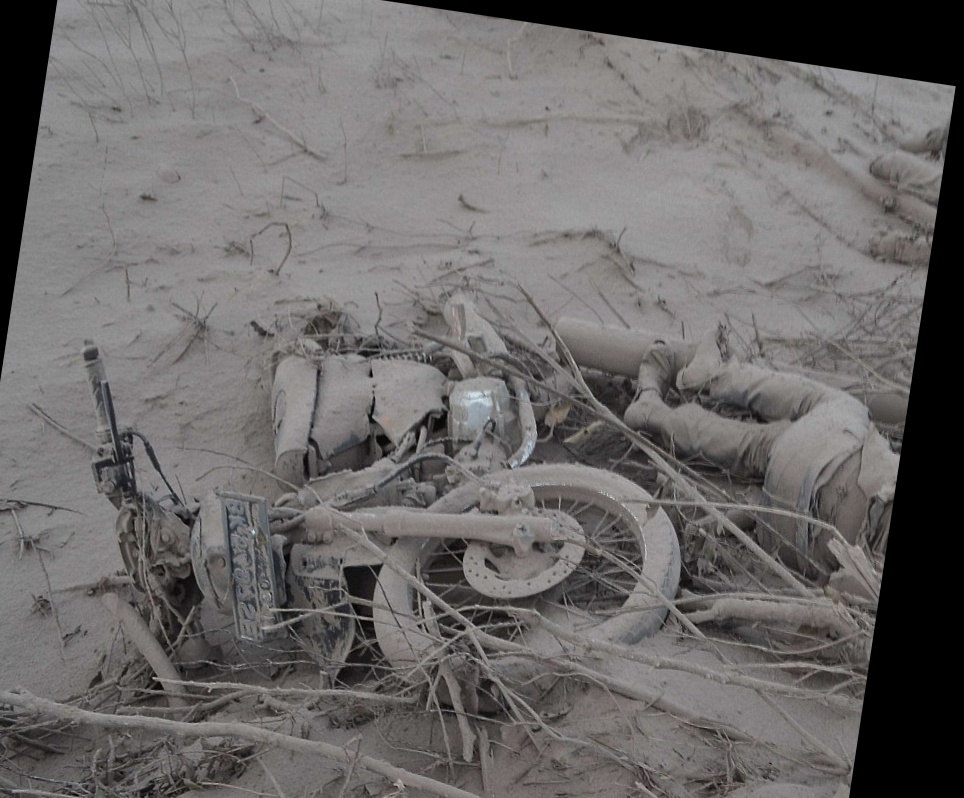Korban: (603, 305, 917, 598)
